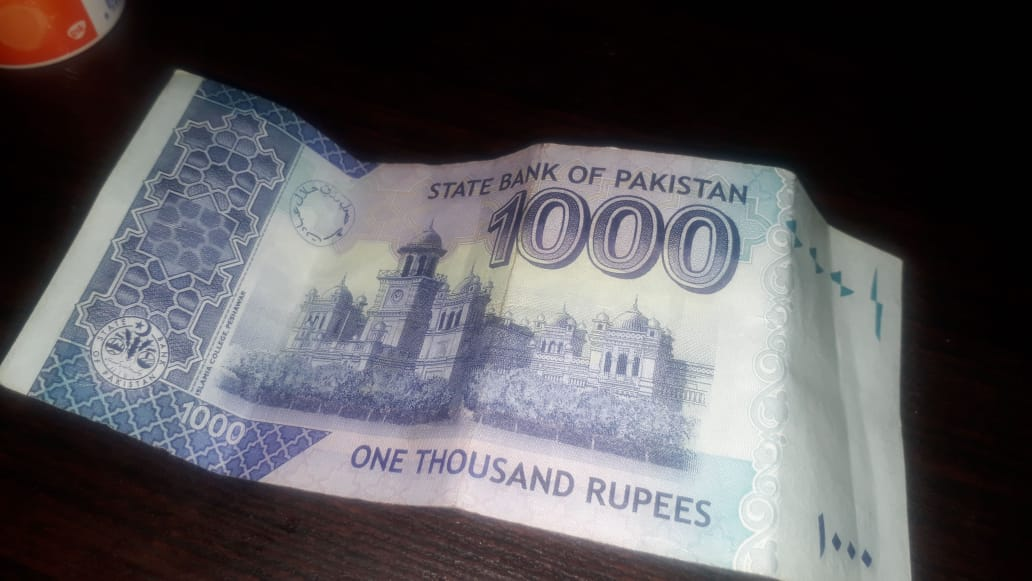1000 rupee: (26, 36, 948, 581)
